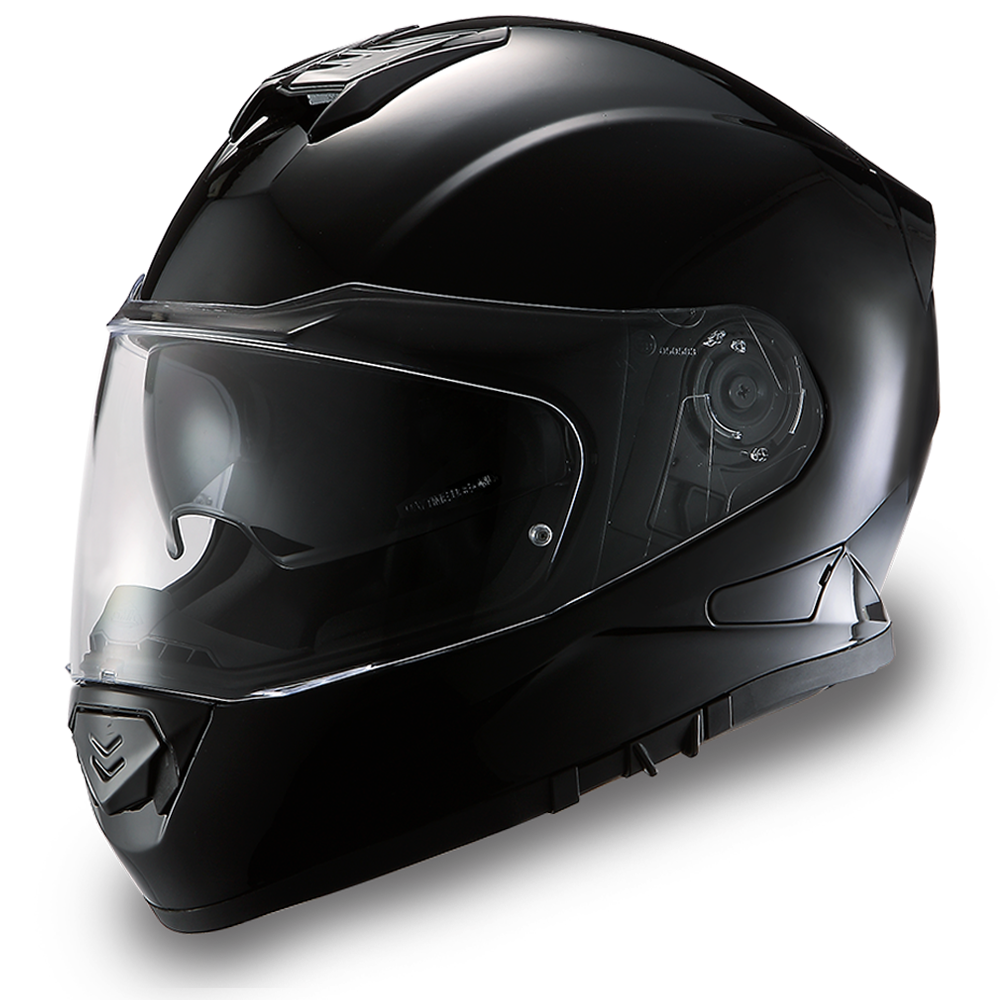with_helmet: (58, 10, 952, 941)
